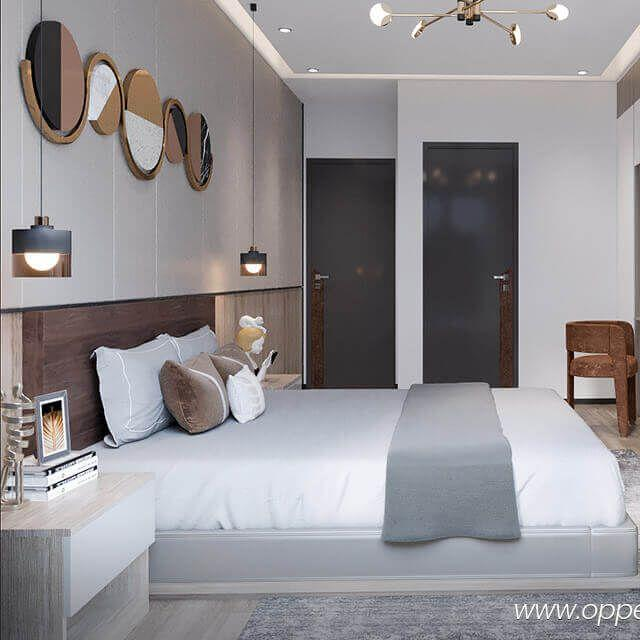bed: (91, 391, 640, 585)
chair: (565, 311, 635, 432)
door: (423, 135, 521, 385), (302, 155, 398, 390)
lamp: (11, 218, 70, 279), (238, 240, 269, 280)
pillow: (91, 334, 181, 437), (159, 347, 227, 433), (219, 354, 274, 427)
table: (0, 474, 155, 637)
